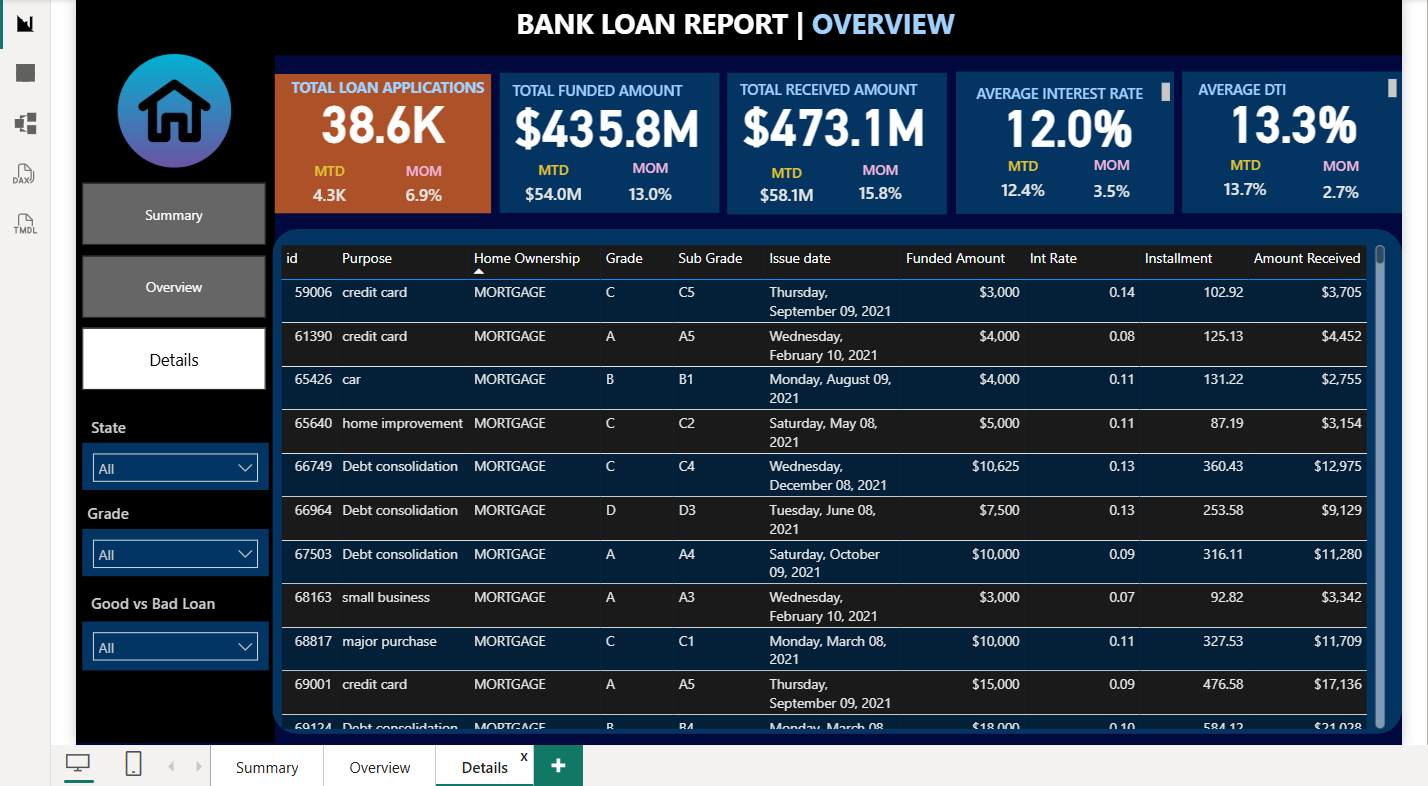

What the dashboard file says about the page in this screenshot:
{"tool":"powerbi","page":{"name":"Details","canvas":[1280,720],"ordinal":2},"visuals":[{"type":"shape","box":[849.3,70,210.8,137.5],"z":0,"group":"g4"},{"type":"shape","box":[1067.7,70,212,137],"z":0,"group":"g5"},{"type":"group","id":"g1","title":"Group 1","box":[408.7,71.2,212.7,137.3],"z":0},{"type":"shape","box":[408.7,71.2,212.2,135.3],"z":0,"group":"g1"},{"type":"shape","box":[628.8,71.2,212,137],"z":0,"group":"g3"},{"type":"shape","box":[189.4,71.9,211.3,134.6],"z":0,"group":"g2"},{"type":"group","id":"g2","title":"Group 1","box":[189.4,71.2,212,137],"z":1000},{"type":"card","fields":{"Values":["bank_loan_data.Average DTI"]},"box":[1079.3,85,189.3,62.9],"z":1000,"group":"g5"},{"type":"card","fields":{"Values":["bank_loan_data.Total Loan Applications"]},"box":[202.2,85.8,187.3,59.8],"z":1000,"group":"g2"},{"type":"card","fields":{"Values":["bank_loan_data.Total Amount Received"]},"box":[635.4,87.7,192.2,60.3],"z":1000,"group":"g3"},{"type":"card","fields":{"Values":["bank_loan_data.AVERAGE Interest Rate"]},"box":[864.6,88.1,184.9,62.9],"z":1000,"group":"g4"},{"type":"card","fields":{"Values":["bank_loan_data.Total Funded Amount"]},"box":[416,88.5,193.2,62.9],"z":1000,"group":"g1"},{"type":"shape","box":[0,0,1280,54.3],"z":2000},{"type":"textbox","box":[202.2,71.2,199.2,29.2],"z":2000,"group":"g2"},{"type":"textbox","box":[635.4,73,204.4,29.5],"z":2000,"group":"g3"},{"type":"textbox","box":[1078.9,73,201.3,28],"z":2000,"group":"g5"},{"type":"textbox","box":[416,73.2,205.4,30.7],"z":2000,"group":"g1"},{"type":"textbox","box":[864.2,76.1,196.6,27.9],"z":2000,"group":"g4"},{"type":"shape","box":[0,48.3,191.8,669.6],"z":3000},{"type":"card","title":"MTD","fields":{"Values":["bank_loan_data.MTD Avg DTI"]},"box":[1096.4,150.9,64,51.7],"z":3000,"group":"g5"},{"type":"card","title":"MTD","fields":{"Values":["bank_loan_data.MTD Avg Int Rate"]},"box":[882.7,151.7,62,51.9],"z":3000,"group":"g4"},{"type":"card","title":"MTD","fields":{"Values":["bank_loan_data.MTD Funded Amount"]},"box":[427.8,155.4,65.1,51.9],"z":3000,"group":"g1"},{"type":"card","title":"MTD","fields":{"Values":["bank_loan_data.MTD Loan Applications"]},"box":[216.2,156.7,57.4,50.2],"z":3000,"group":"g2"},{"type":"card","title":"MTD","fields":{"Values":["bank_loan_data.MTD Total Amount Received"]},"box":[653.6,158.1,64.2,49.4],"z":3000,"group":"g3"},{"type":"textbox","box":[419.8,0,492.2,49.5],"z":4000},{"type":"card","title":"MOM","fields":{"Values":["bank_loan_data.MOM Avg Interest rate"]},"box":[974,151,52.1,54.5],"z":4000,"group":"g4"},{"type":"card","title":"MOM","fields":{"Values":["bank_loan_data.MOM Avg DTI"]},"box":[1194.7,152,53.1,54.7],"z":4000,"group":"g5"},{"type":"card","title":"MOM","fields":{"Values":["bank_loan_data.MOM Total Funded Amount"]},"box":[526.7,153,54.3,55.5],"z":4000,"group":"g1"},{"type":"card","title":"MOM","fields":{"Values":["bank_loan_data.MOM Total Amount Received"]},"box":[748.5,155.4,56.7,49.5],"z":4000,"group":"g3"},{"type":"card","title":"MOM","fields":{"Values":["bank_loan_data.MOM Loan Applications"]},"box":[308.4,156.7,53.8,51.5],"z":4000,"group":"g2"},{"type":"group","id":"g3","title":"Group 1","box":[628.8,71.2,212,137],"z":5000},{"type":"group","id":"g4","title":"Group 1","box":[849.3,70,212.3,137.5],"z":6000},{"type":"group","id":"g5","title":"Group 1","box":[1067.7,70,212.3,137.5],"z":7000},{"type":"shape","box":[189.4,222,1090.6,487.4],"z":8000},{"type":"slicer","fields":{"Values":["bank_loan_data.address_state"]},"box":[6,428.3,179.8,45.8],"z":9000},{"type":"textbox","box":[9.7,398.1,74.8,30.2],"z":10000},{"type":"slicer","fields":{"Values":["bank_loan_data.grade"]},"box":[6,511.5,179.8,45.8],"z":11000},{"type":"textbox","box":[6,481.4,74.8,30.2],"z":12000},{"type":"slicer","fields":{"Values":["bank_loan_data.Good vs Bad Loan"]},"box":[6,600.8,179.8,47.1],"z":13000},{"type":"textbox","box":[9.7,568.2,149.6,32.6],"z":14000},{"type":"tableEx","fields":{"Values":["bank_loan_data.id","bank_loan_data.purpose","bank_loan_data.home_ownership","bank_loan_data.grade","bank_loan_data.sub_grade","bank_loan_data.issue_date","bank_loan_data.Total Funded Amount","Sum(bank_loan_data.int_rate)","Sum(bank_loan_data.installment)","bank_loan_data.Total Amount Received"]},"box":[191.8,232.8,1076.1,476.5],"z":17003},{"type":"pageNavigator","box":[6,177.3,177.3,201.5],"z":17004},{"type":"image","box":[29,48.3,132.7,119.4],"z":17005}]}

Visuals, with their boxes on the page's 1280x720 design canvas (x1, y1, x2, y2). These are canvas units, not pixel positions in the 1428x786 screenshot, which may show the page scaled, cropped or inside an application window:
shape: rect(849, 70, 1060, 208)
shape: rect(1068, 70, 1280, 207)
"Group 1" group: rect(409, 71, 621, 208)
shape: rect(409, 71, 621, 206)
shape: rect(629, 71, 841, 208)
shape: rect(189, 72, 401, 206)
"Group 1" group: rect(189, 71, 401, 208)
card - bank_loan_data.Average DTI: rect(1079, 85, 1269, 148)
card - bank_loan_data.Total Loan Applications: rect(202, 86, 390, 146)
card - bank_loan_data.Total Amount Received: rect(635, 88, 828, 148)
card - bank_loan_data.AVERAGE Interest Rate: rect(865, 88, 1050, 151)
card - bank_loan_data.Total Funded Amount: rect(416, 88, 609, 151)
shape: rect(0, 0, 1280, 54)
textbox: rect(202, 71, 401, 100)
textbox: rect(635, 73, 840, 102)
textbox: rect(1079, 73, 1280, 101)
textbox: rect(416, 73, 621, 104)
textbox: rect(864, 76, 1061, 104)
shape: rect(0, 48, 192, 718)
"MTD" card: rect(1096, 151, 1160, 203)
"MTD" card: rect(883, 152, 945, 204)
"MTD" card: rect(428, 155, 493, 207)
"MTD" card: rect(216, 157, 274, 207)
"MTD" card: rect(654, 158, 718, 208)
textbox: rect(420, 0, 912, 50)
"MOM" card: rect(974, 151, 1026, 206)
"MOM" card: rect(1195, 152, 1248, 207)
"MOM" card: rect(527, 153, 581, 208)
"MOM" card: rect(748, 155, 805, 205)
"MOM" card: rect(308, 157, 362, 208)
"Group 1" group: rect(629, 71, 841, 208)
"Group 1" group: rect(849, 70, 1062, 208)
"Group 1" group: rect(1068, 70, 1280, 208)
shape: rect(189, 222, 1280, 709)
slicer - bank_loan_data.address_state: rect(6, 428, 186, 474)
textbox: rect(10, 398, 84, 428)
slicer - bank_loan_data.grade: rect(6, 512, 186, 557)
textbox: rect(6, 481, 81, 512)
slicer - bank_loan_data.Good vs Bad Loan: rect(6, 601, 186, 648)
textbox: rect(10, 568, 159, 601)
tableEx - bank_loan_data.id x bank_loan_data.purpose: rect(192, 233, 1268, 709)
pageNavigator: rect(6, 177, 183, 379)
image: rect(29, 48, 162, 168)
